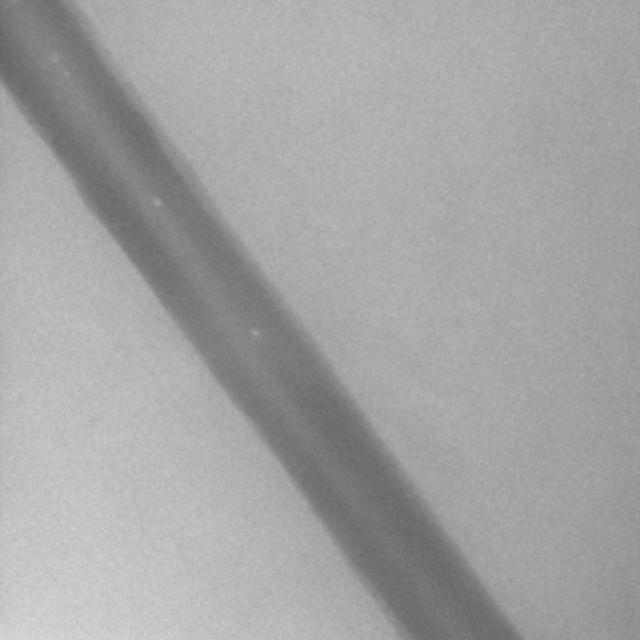air hole: (250, 325, 260, 339), (152, 196, 163, 208)
